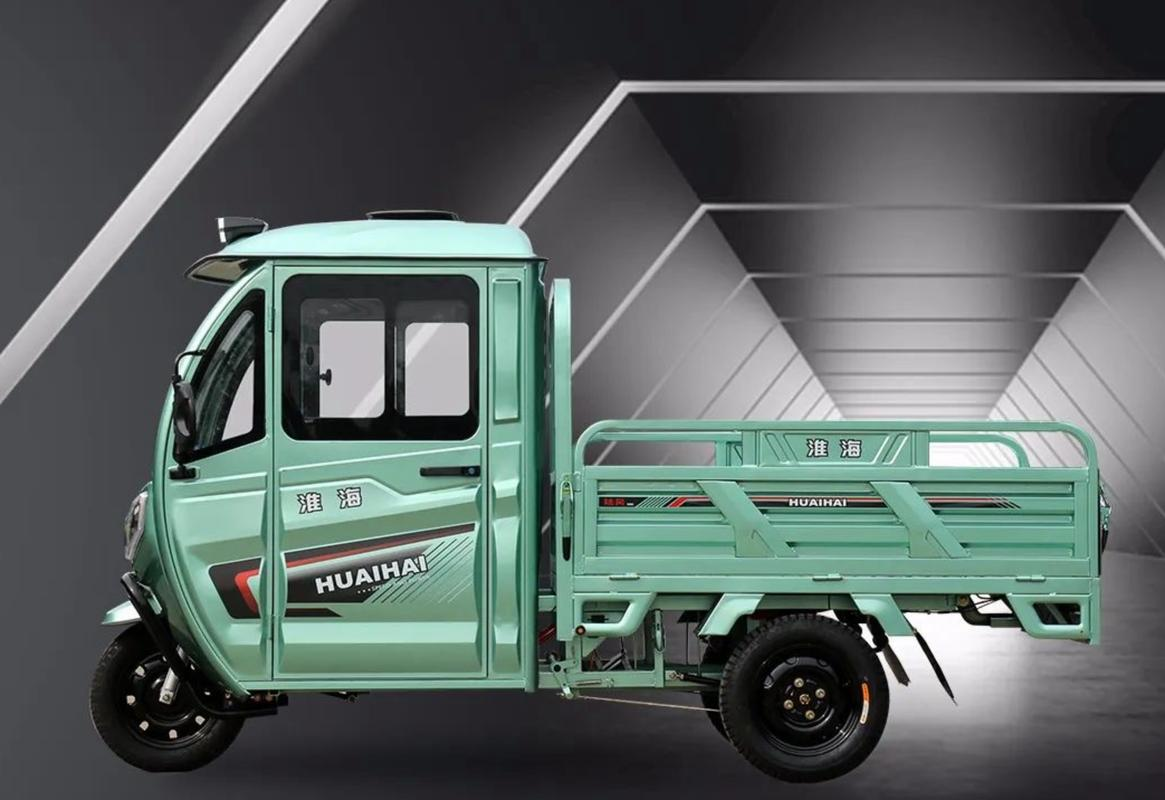empty: (93, 182, 1129, 756)
